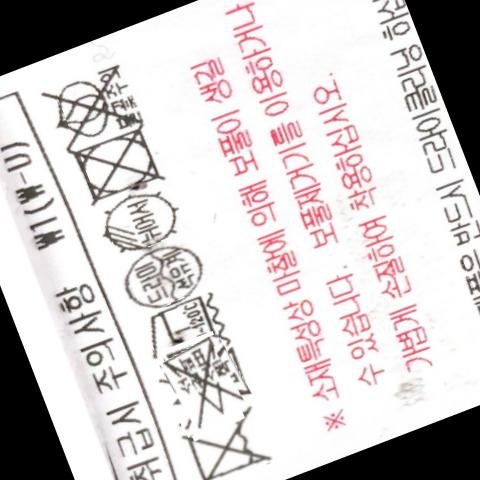DN_bleach: (162, 342, 246, 423)
DN_tumble_dry: (79, 127, 155, 204)
DN_wash: (189, 411, 271, 480)
dry_clean_petrol_only: (121, 243, 208, 310)
dry_flat_in_shade: (96, 188, 184, 253)
iron_low: (150, 295, 225, 346)
